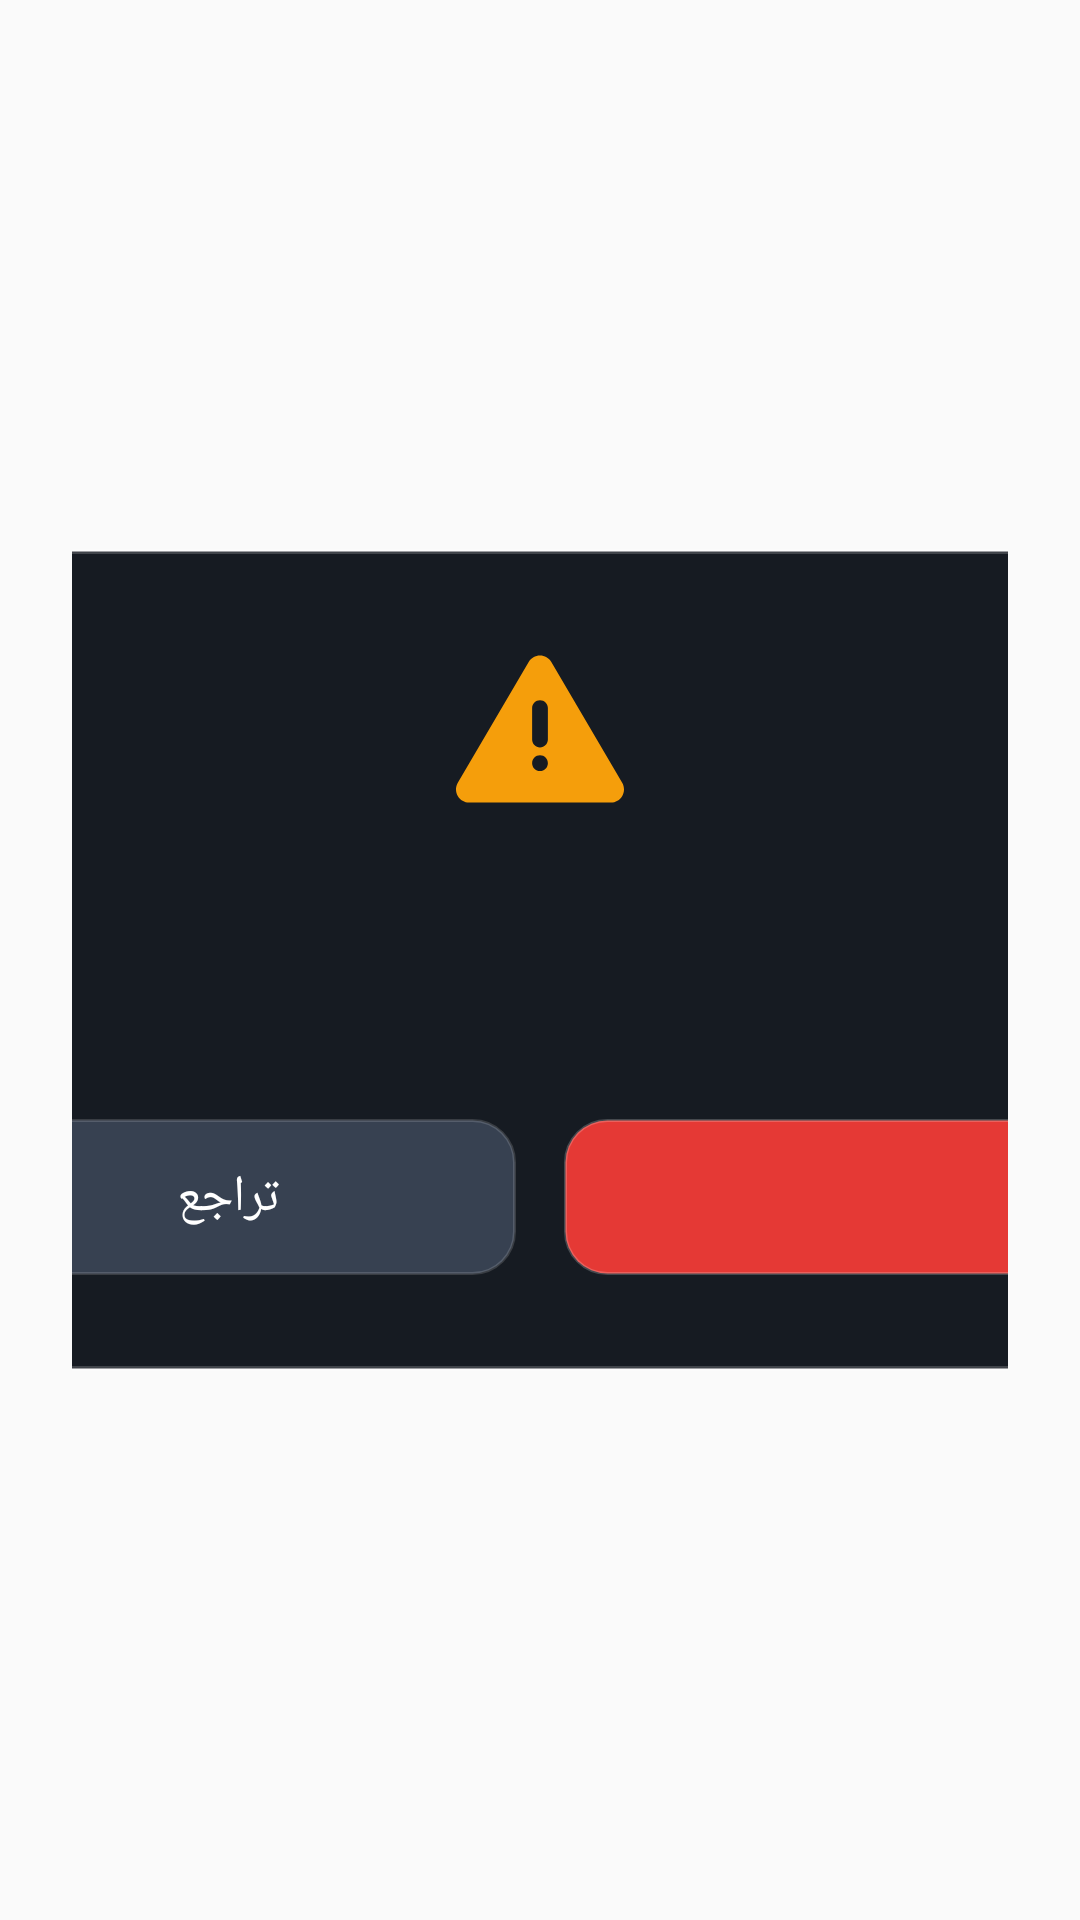

Point at icon controls on the screen. Image size 1080px x 1920px, points as (x=x, y=y).
triangle exclamation: (x=540, y=729)
